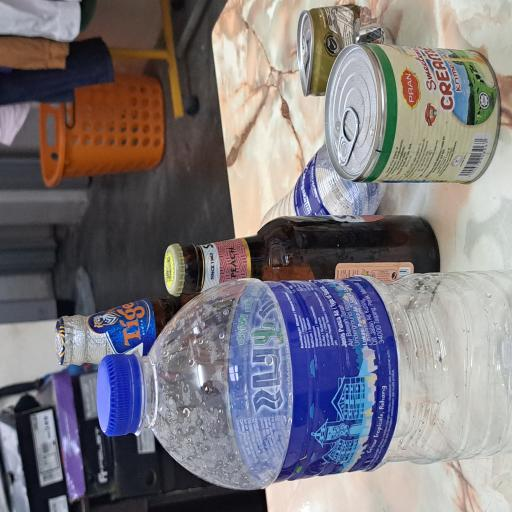can: (246, 432, 352, 512), (311, 395, 383, 512)
glass bottle: (163, 218, 222, 512), (110, 74, 166, 263)
plastic bottle: (14, 187, 180, 512), (209, 347, 276, 512)
plastic bottle cap: (57, 126, 119, 187)
pop tab: (259, 449, 304, 479), (334, 402, 357, 410)
